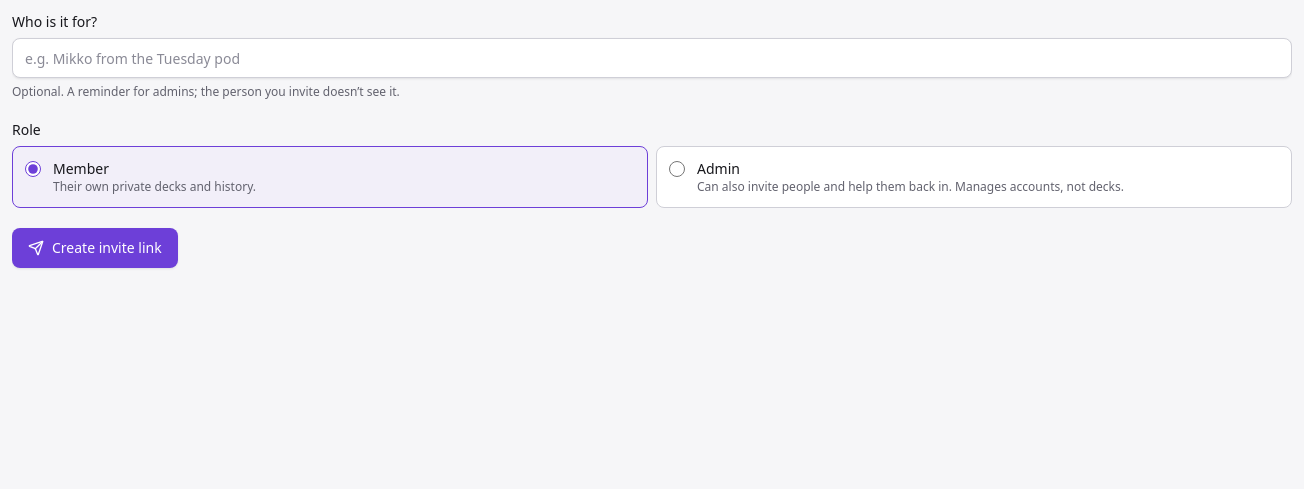
Test: InviteForm › creates a member invite by default and shows its link once
This screenshot has width=1304, height=489.
expect the radio button labelled "Member Their own private decks and history." is checked: met, box [25,161,41,177]
Type "Mikko" into the field labelled "Who is it for?" at (652, 58), box [12,38,1292,78]
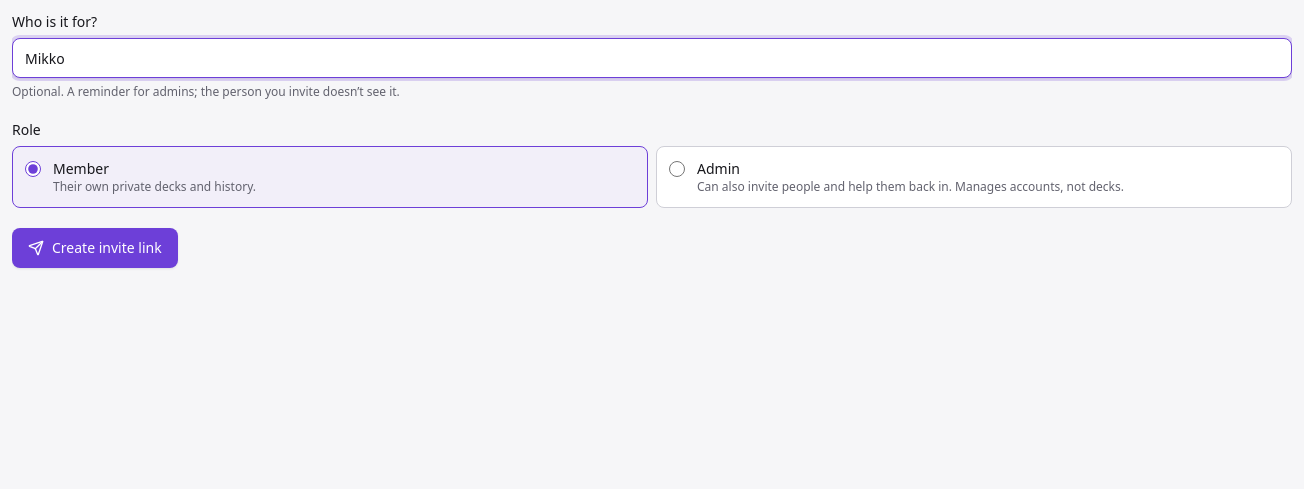
Click the button "Create invite link" at (95, 248), box [12,228,178,268]
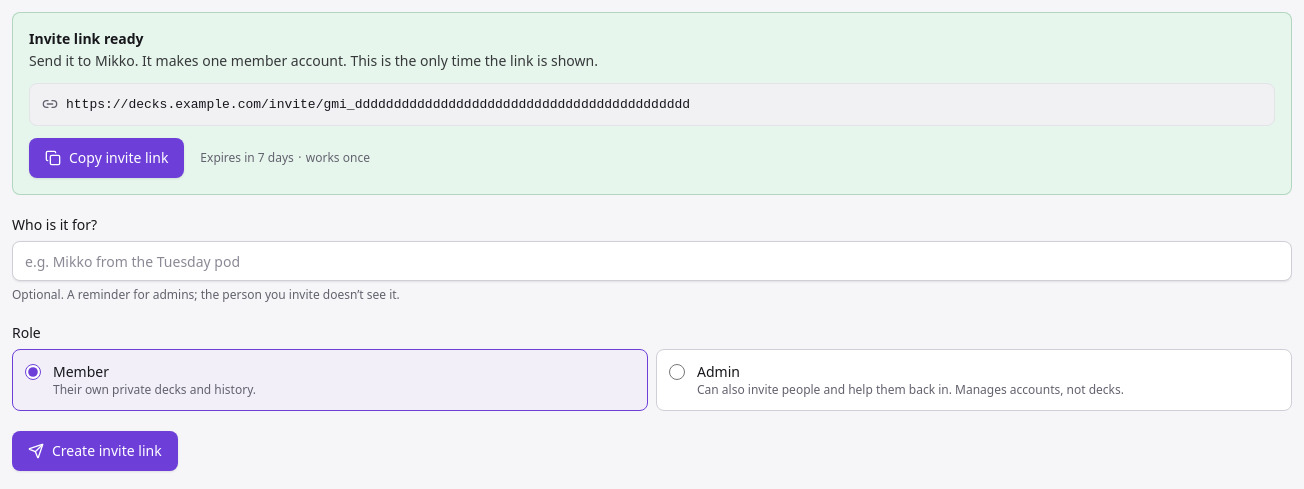
expect the text "Mikko" is shown: met, box [95,51,135,70]
expect the message named "New invite link" shows "Invite link ready": met, box [29,29,144,48]
expect the message named "New invite link" shows "Send it to Mikko. It makes one member account.": met, box [12,12,1292,195]
